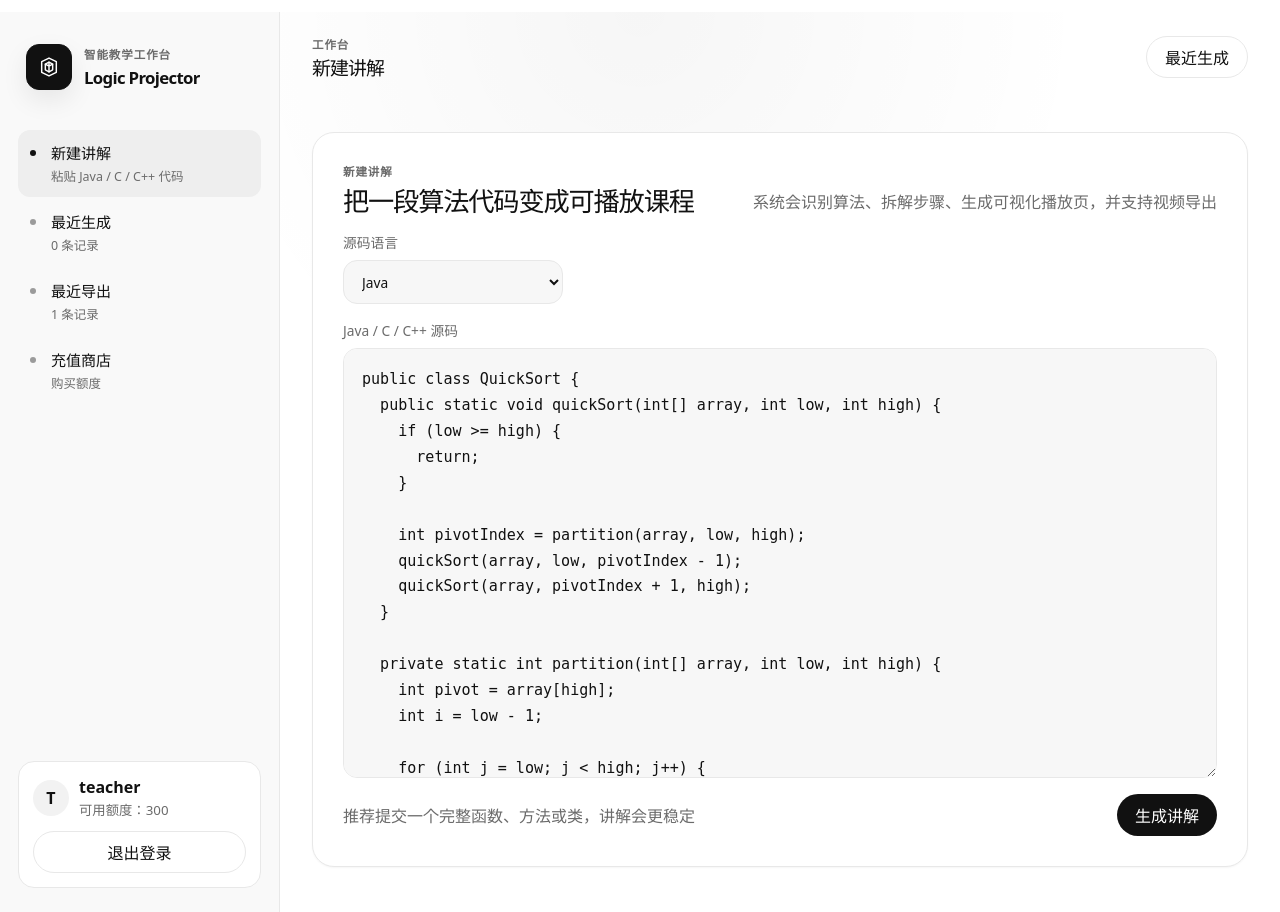
Scenario: App › loads a recent export from the sidebar
Click the button with class "sidebar-nav-item" showing "最近导出 1 条记录" at [140, 302], box [18,268,261,335]
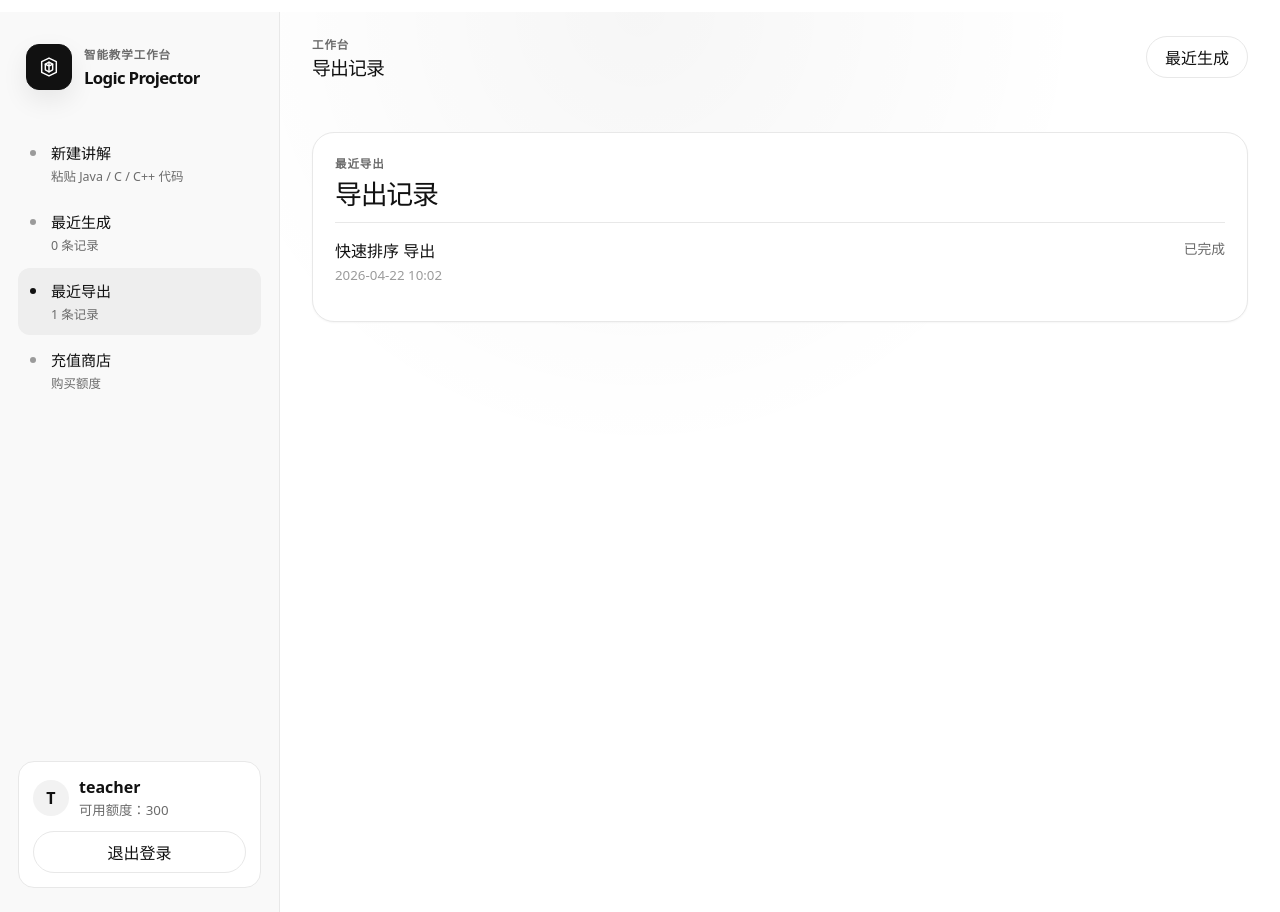
Click the button "快速排序 导出 已完成 2026-04-22 10:02" at [385, 251], box [335,222,1225,299]
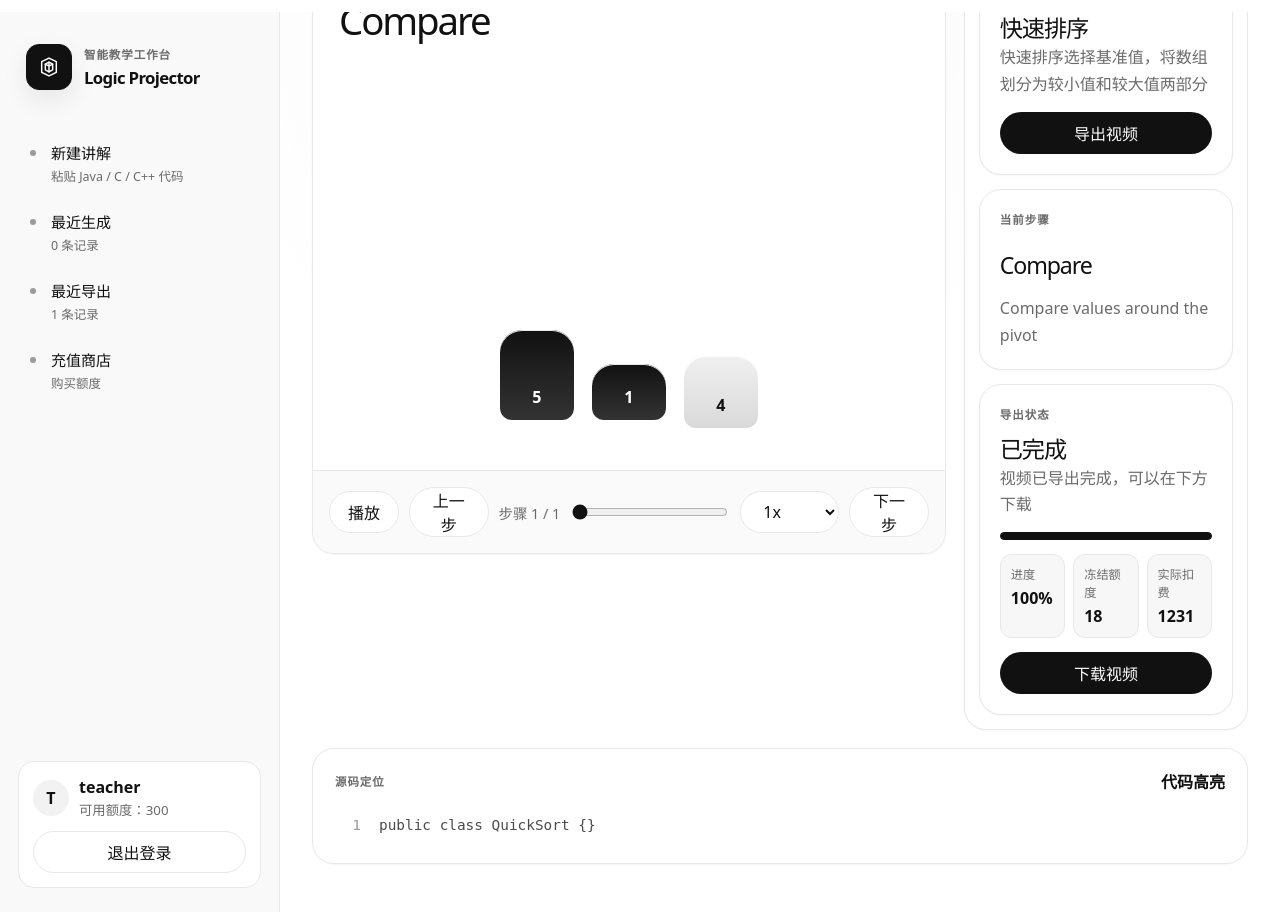
expect the button "下载视频" is shown: met, box [1000,652,1212,694]
